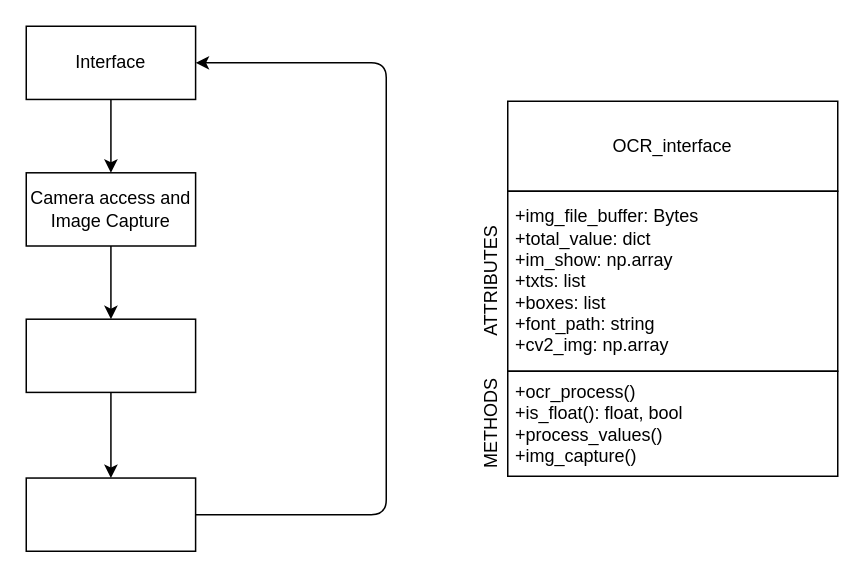
Some shapes in this 864 by 578 pixel diagram are drawn without their labels. Here are the shapes that lost their labels. From the top down, the centre of each, then its label:
At (110,355): "OCR Processing".
At (110,514): "Results".
